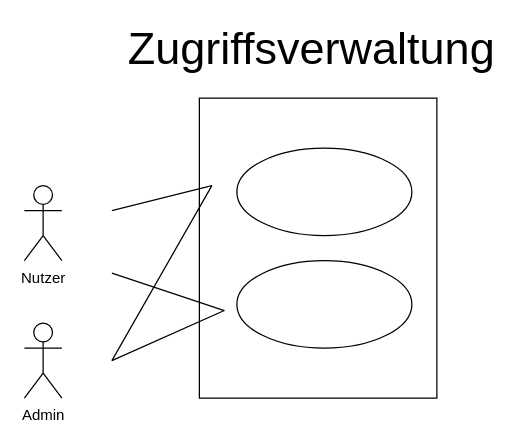
Image size: 516x446. Some labels were removed from this diagram. The shapes that lost their labels are listed below. From the top down, each one's centre as x and y in pixels, then its label:
At (x=324, y=191): "Identifizieren und Authentifizieren".
At (x=324, y=303): "neuen AccessToken erhalten wenn abgelaufen".
